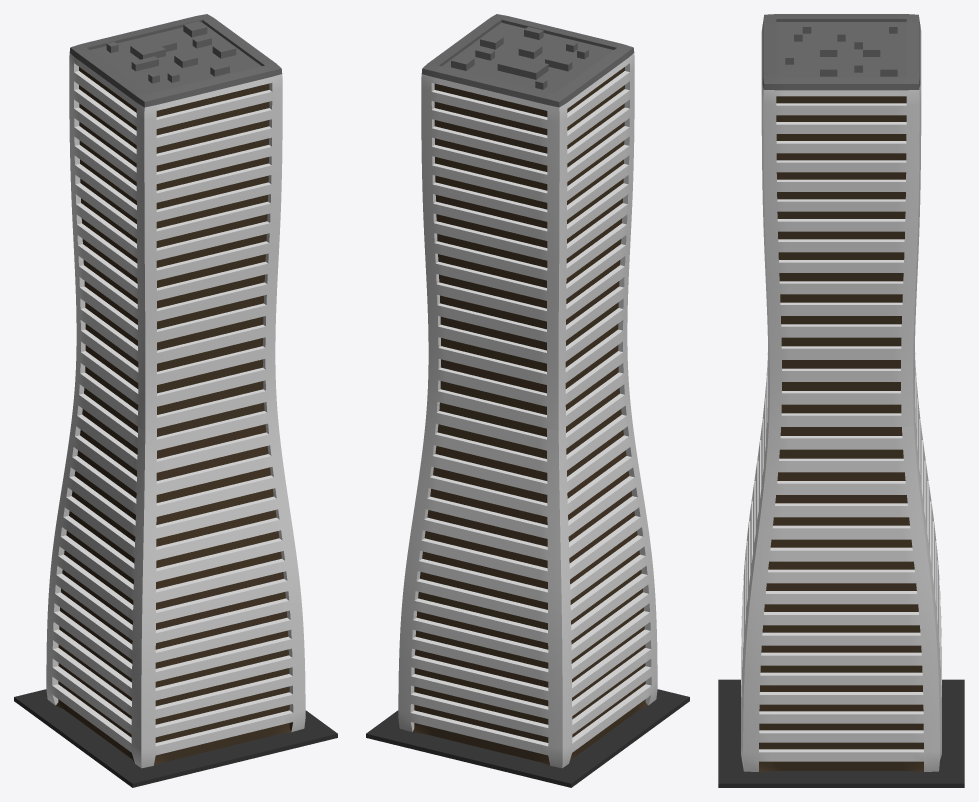
3 renders of one model, left to right at view 1: azimuth 30°, elevation 25°; view 2: azimuth 150°, elevation 25°; view 3: azimuth 270°, elevation 25°, orthographic. The views are drawn at different scales.
Visible parts, largest first — view 1: Cube.024, Floor.015; view 2: Cube.024, Floor.015; view 3: Cube.024, Floor.015.
Part boxes in pixels (x1=…): Cube.024: x1=46, y1=14, x2=305, y2=768; Floor.015: x1=14, y1=689, x2=337, y2=787; Cube.024: x1=398, y1=14, x2=657, y2=768; Floor.015: x1=366, y1=689, x2=689, y2=787; Cube.024: x1=741, y1=14, x2=941, y2=771; Floor.015: x1=718, y1=679, x2=964, y2=787.
Bounding box in the file's own units: 800 × 2481 × 800.
